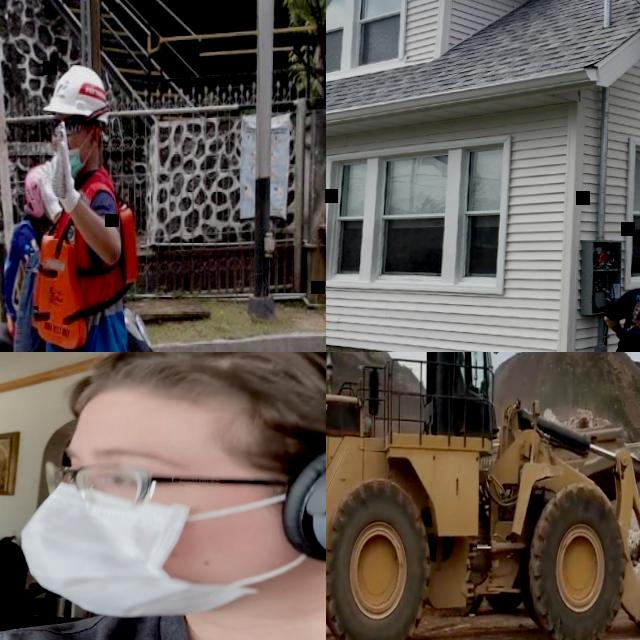Hardhat: (40, 59, 109, 121), (24, 160, 49, 216)
Mask: (21, 481, 307, 623)
NO-Hardhat: (51, 352, 326, 462)
NO-Safety Vest: (9, 222, 42, 306), (616, 285, 640, 352)
Person: (0, 352, 326, 640), (28, 55, 138, 352), (3, 166, 46, 328), (457, 353, 474, 395)
Safety Vest: (31, 178, 137, 344)
vehicle: (326, 352, 640, 640)
